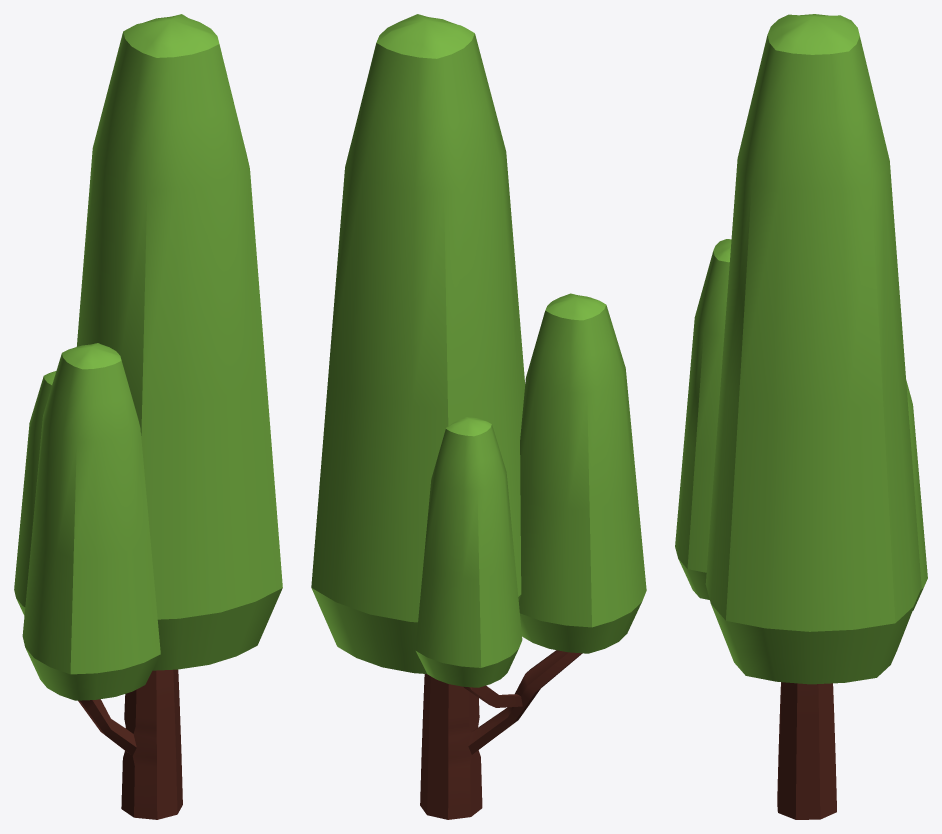
File: Tree5.fbx
3 views of the same model, side by side, from view 1: azimuth 30°, elevation 25°; view 2: azimuth 150°, elevation 25°; view 3: azimuth 270°, elevation 25° (orthographic). The views are drawn at different scales.
Parts seen in each view (by area): view 1: Cylinder.002; view 2: Cylinder.002; view 3: Cylinder.002.
Boxes of the visible parts, x1,y1,x2,y2 form: Cylinder.002: [14, 14, 282, 819]; Cylinder.002: [311, 14, 646, 819]; Cylinder.002: [675, 14, 927, 819].
Size of the model in its own units: 790 by 2248 by 643.
